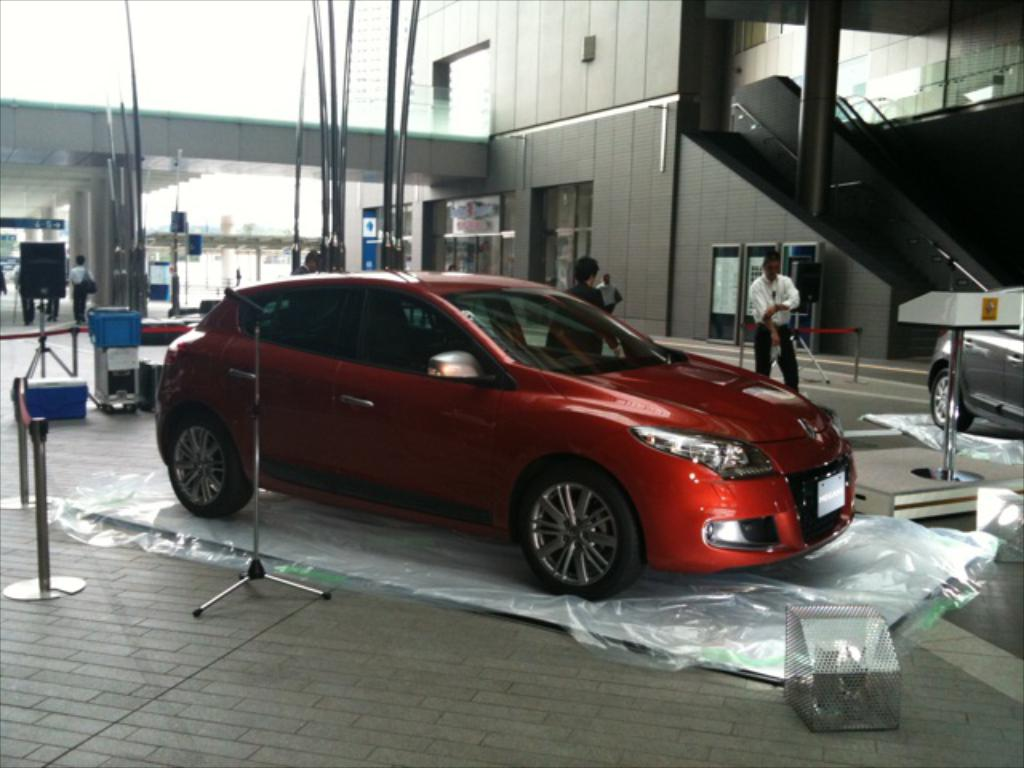Car: (154, 270, 858, 601), (927, 286, 1024, 439)
